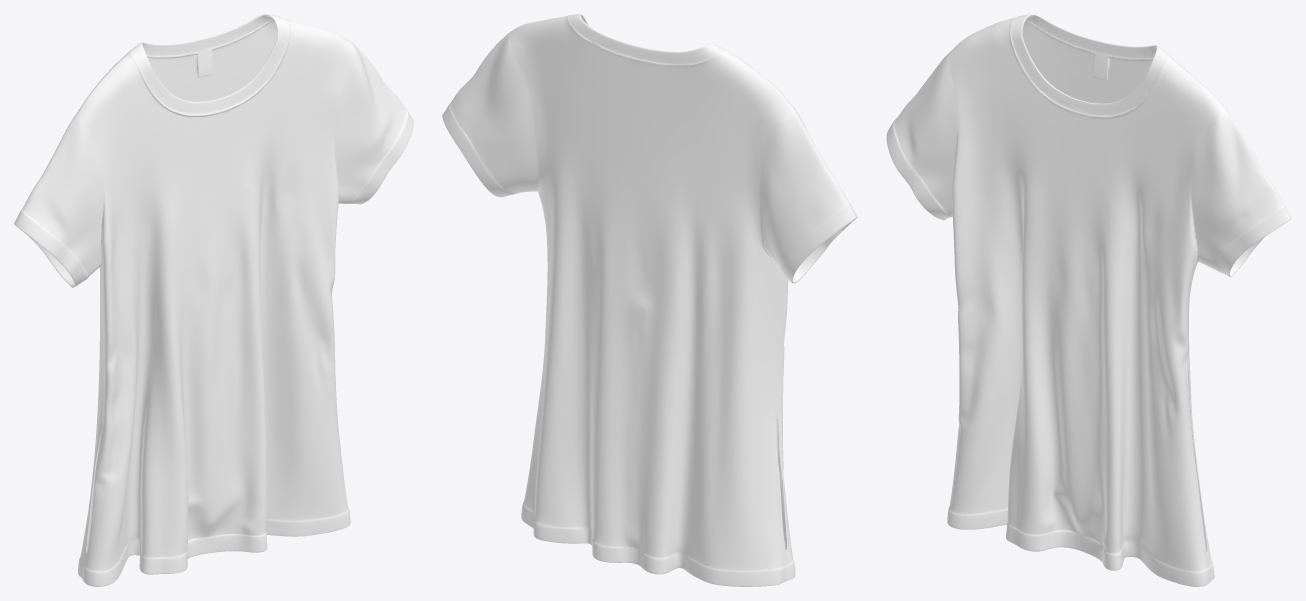
File: meshy_tee_premium.glb
3 views of the same model, side by side, from view 1: azimuth 30°, elevation 25°; view 2: azimuth 150°, elevation 25°; view 3: azimuth 330°, elevation 25° (orthographic). The views are drawn at different scales.
Bounding box in the file's own units: 1.53 × 1.9 × 0.2713.
1 material, 1 textured.
